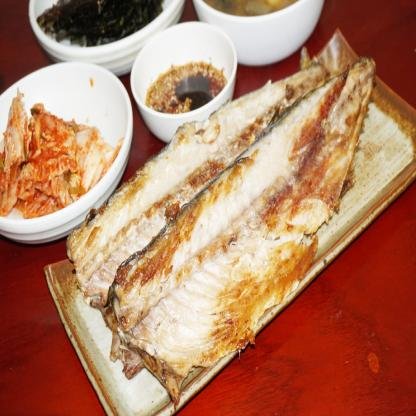Peixe: (66, 40, 380, 395)
